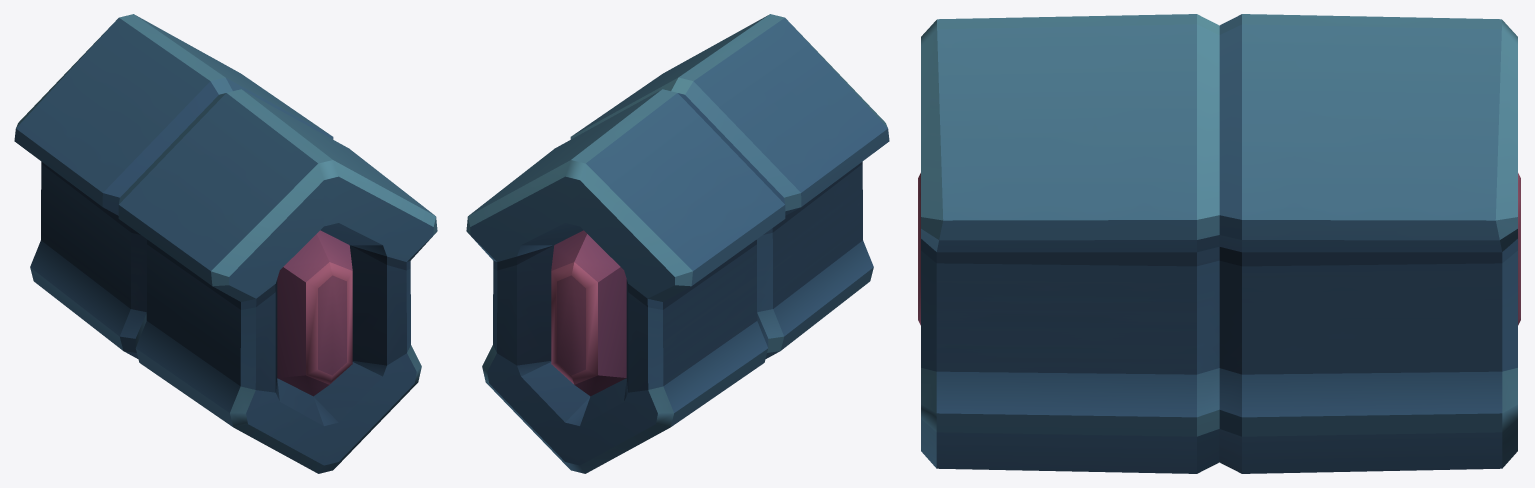
File: ornament_2.fbx
The picture shows the model from 3 angles, left to right: view 1: azimuth 30°, elevation 25°; view 2: azimuth 150°, elevation 25°; view 3: azimuth 270°, elevation 25°; orthographic projection. The views are drawn at different scales.
Parts seen in each view (by area): view 1: ornament_2; view 2: ornament_2; view 3: ornament_2.
Part boxes in pixels (x1,y1,x2,y2): ornament_2: [14, 14, 437, 473]; ornament_2: [466, 14, 889, 473]; ornament_2: [918, 14, 1520, 473].
Bounding box in the file's own units: 137 × 181 × 220.
